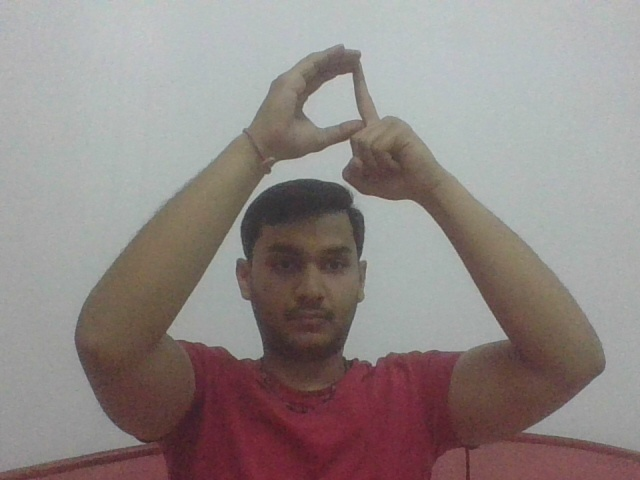D: (251, 42, 439, 178)
